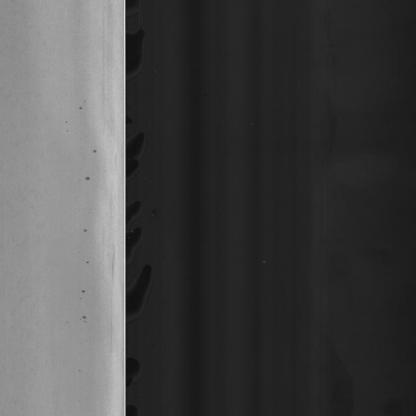oil_spot: (83, 154, 94, 194), (76, 276, 90, 306), (80, 222, 93, 243), (77, 95, 88, 115), (76, 312, 89, 328)
